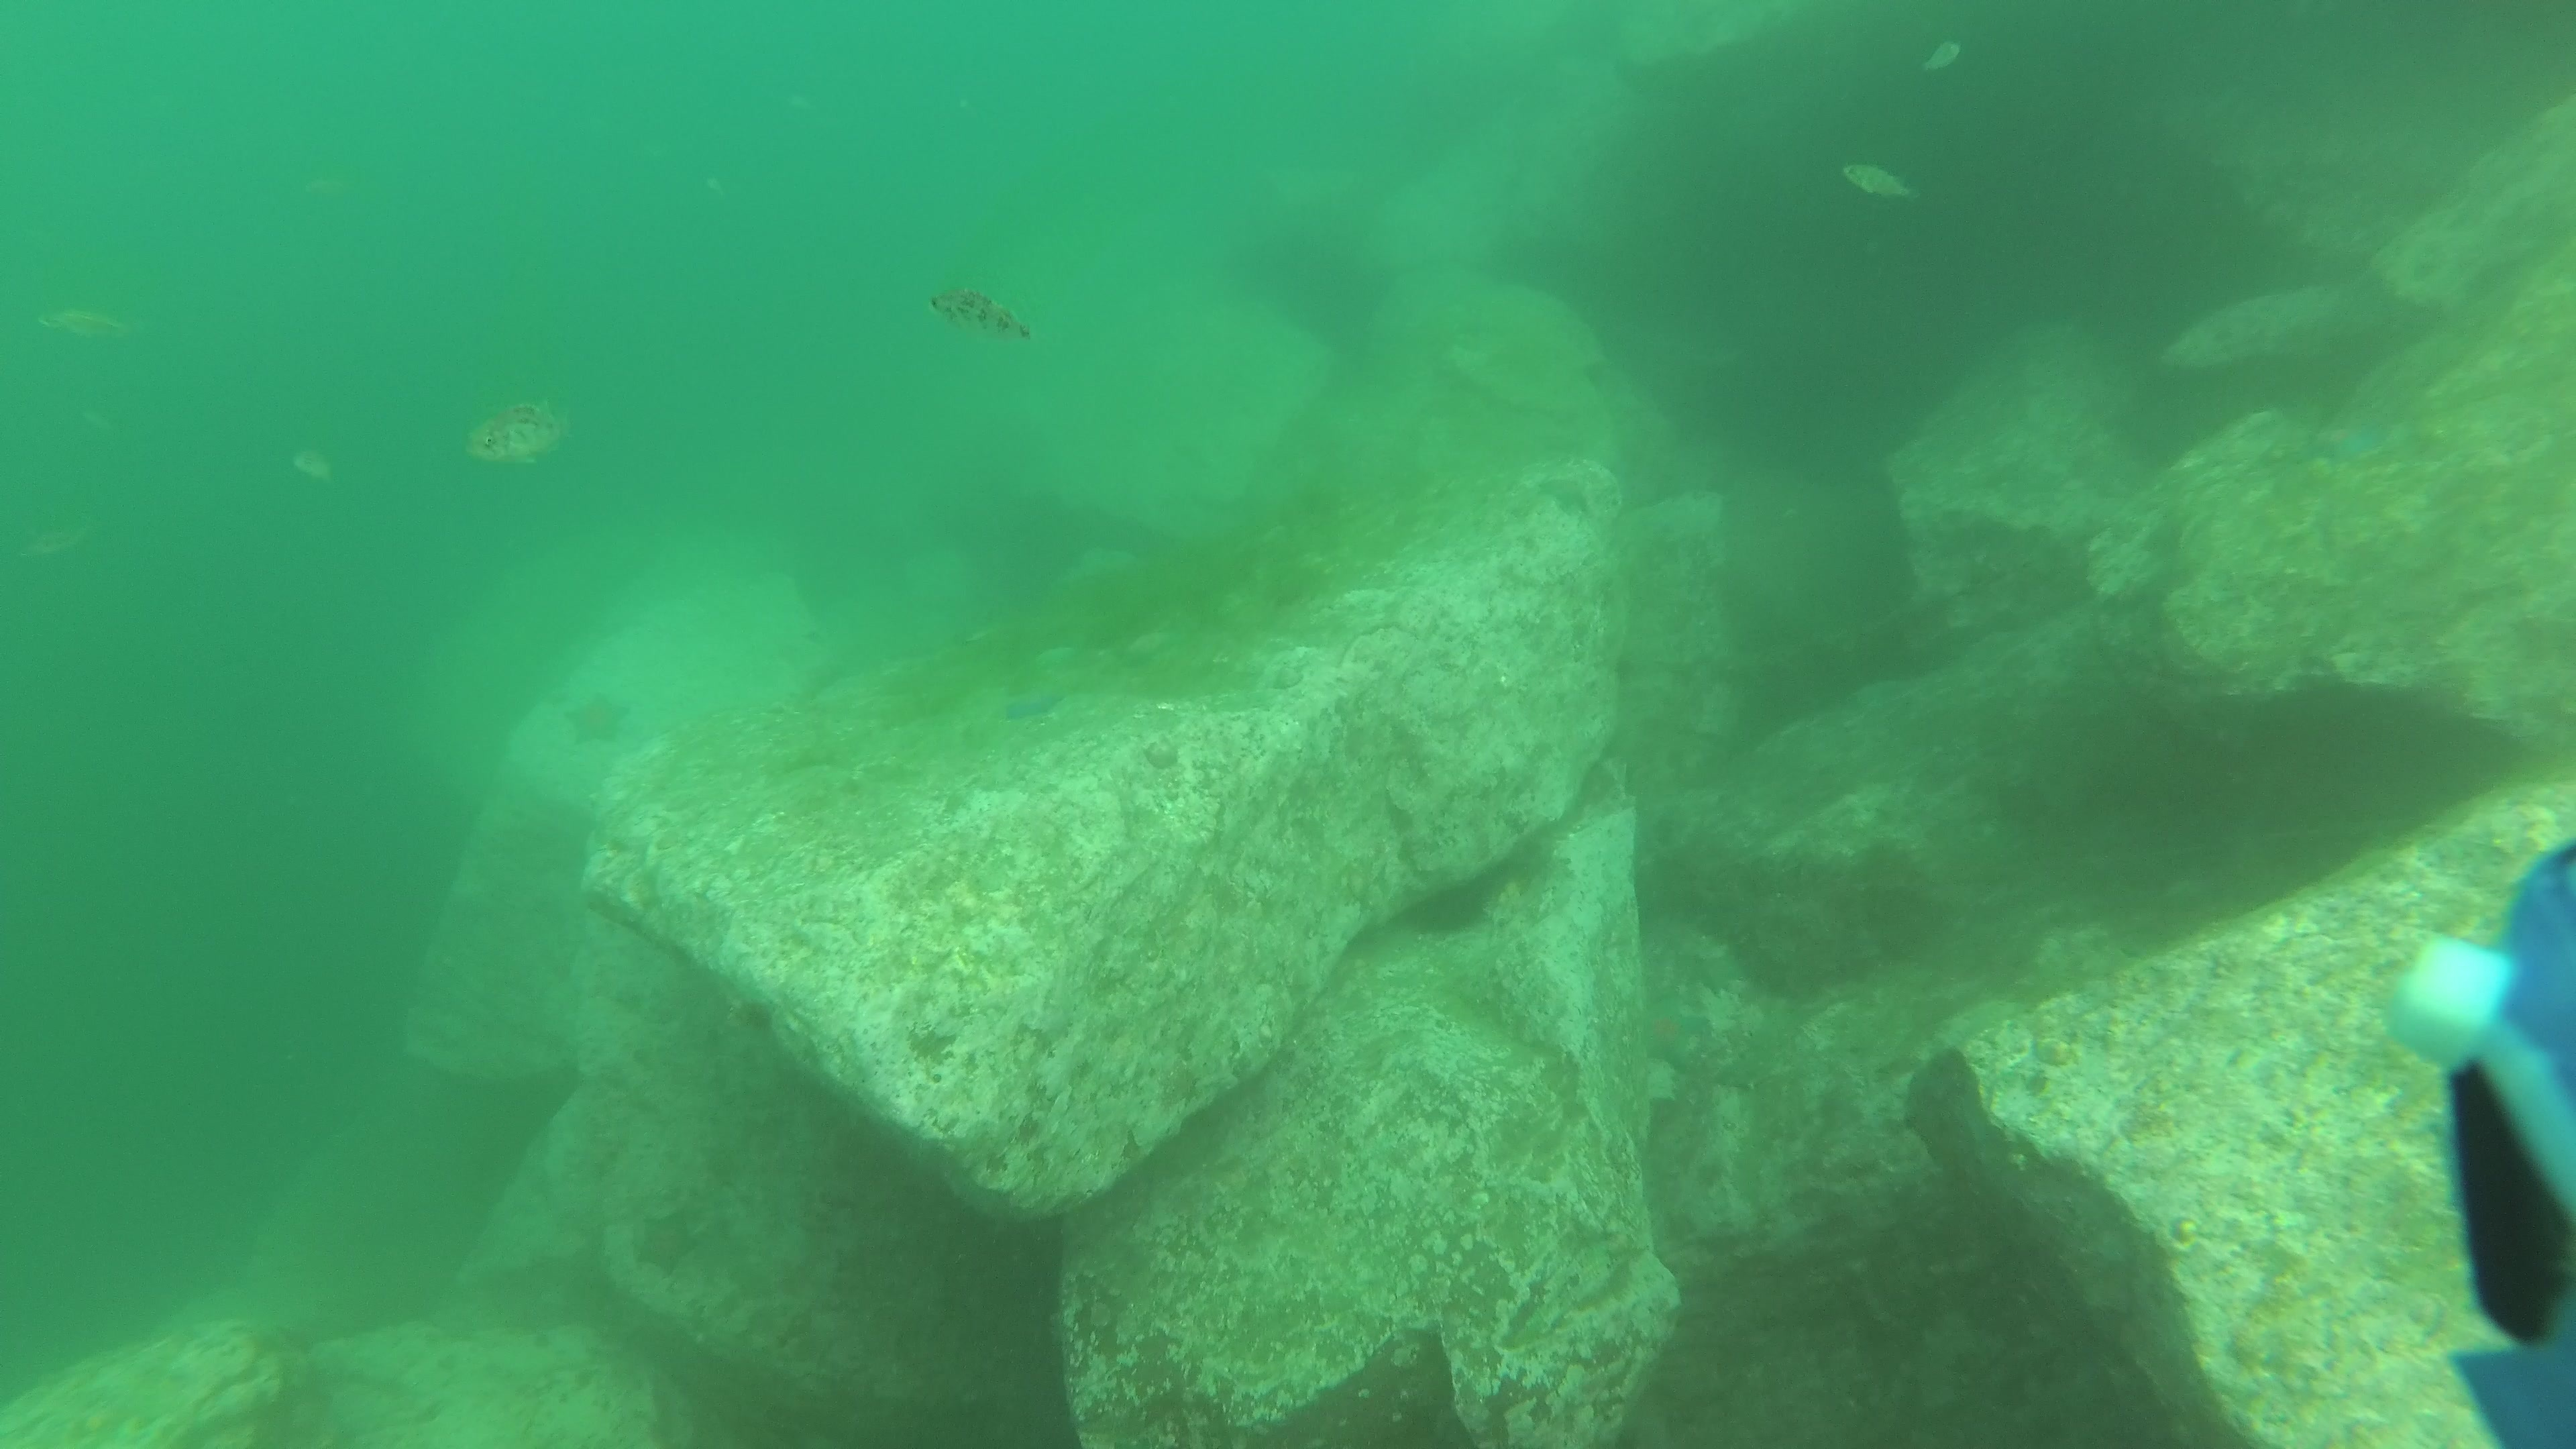starfish: (1642, 993, 1713, 1076), (628, 1207, 708, 1276), (557, 690, 635, 750), (2302, 419, 2392, 464), (1534, 469, 1598, 518), (996, 688, 1070, 725)
